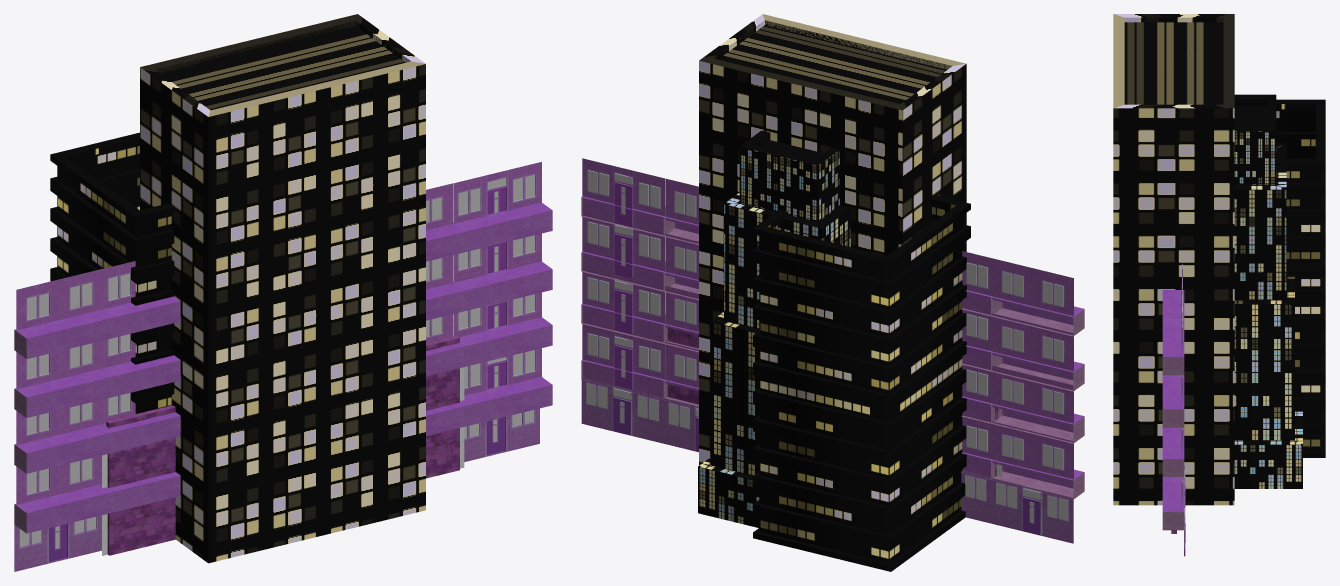
File: Run_Project_BETA_Asset.FBX
3 renders of one model, left to right at view 1: azimuth 30°, elevation 25°; view 2: azimuth 150°, elevation 25°; view 3: azimuth 270°, elevation 25°, orthographic. The views are drawn at different scales.
Visible parts, largest first — view 1: Backdrop_Buildings01, Apartment_Buildings, Backdrop_Buildings04, Backdrop_Buildings02, Wall002, Wired_Fence002; view 2: Backdrop_Buildings04, Apartment_Buildings, Backdrop_Buildings01, Backdrop_Buildings00, Backdrop_Buildings02, Wall002; view 3: Backdrop_Buildings01, Backdrop_Buildings00, Backdrop_Buildings04, Backdrop_Buildings02, Apartment_Buildings.
Part boxes in pixels (left/top/right/bottom): Backdrop_Buildings01: left=140, top=14, right=425, bottom=563; Apartment_Buildings: left=14, top=162, right=552, bottom=571; Backdrop_Buildings04: left=50, top=132, right=174, bottom=413; Backdrop_Buildings02: left=156, top=21, right=409, bottom=110; Wall002: left=106, top=336, right=459, bottom=555; Wired_Fence002: left=102, top=367, right=464, bottom=555; Backdrop_Buildings04: left=753, top=195, right=970, bottom=571; Apartment_Buildings: left=581, top=158, right=1084, bottom=543; Backdrop_Buildings01: left=699, top=14, right=966, bottom=465; Backdrop_Buildings00: left=698, top=130, right=850, bottom=527; Backdrop_Buildings02: left=714, top=20, right=951, bottom=103; Wall002: left=667, top=328, right=998, bottom=476; Backdrop_Buildings01: left=1113, top=14, right=1234, bottom=505; Backdrop_Buildings00: left=1234, top=94, right=1302, bottom=488; Backdrop_Buildings04: left=1276, top=99, right=1325, bottom=457; Backdrop_Buildings02: left=1124, top=22, right=1223, bottom=104; Apartment_Buildings: left=1162, top=264, right=1185, bottom=556.
Bounding box in the file's own units: 2466 × 1999 × 969.
